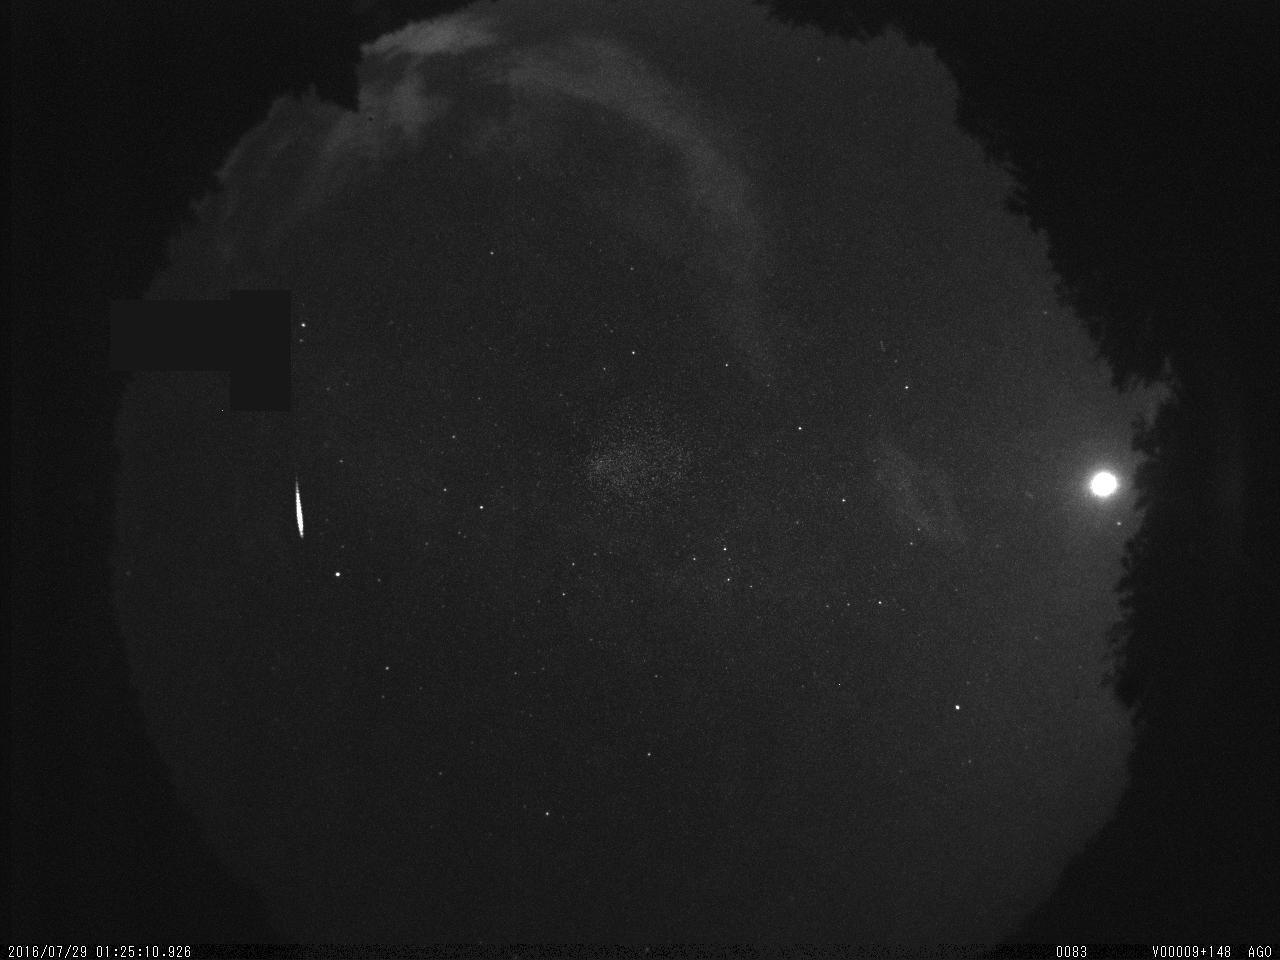meteor: (265, 463, 334, 552)
